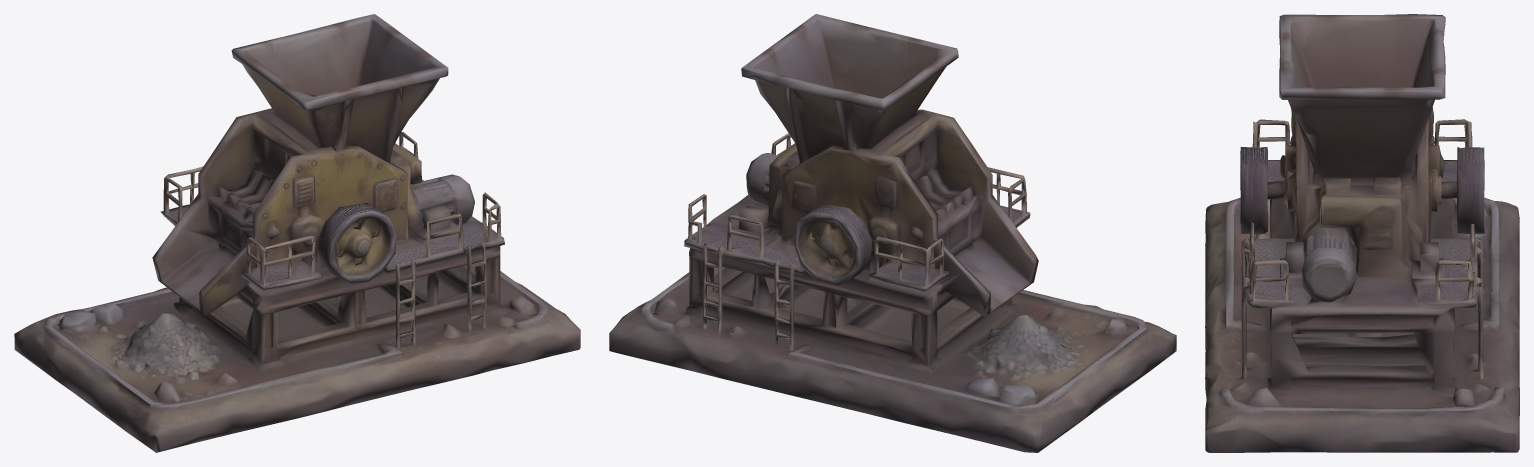
File: mining_site_crusher.glb
The picture shows the model from 3 angles, left to right: view 1: azimuth 30°, elevation 25°; view 2: azimuth 150°, elevation 25°; view 3: azimuth 270°, elevation 25°; orthographic projection. The views are drawn at different scales.
Parts seen in each view (by area): view 1: tripo_node_c7cfc817-c6e8-47a3-8ecf-fdba86572ff8; view 2: tripo_node_c7cfc817-c6e8-47a3-8ecf-fdba86572ff8; view 3: tripo_node_c7cfc817-c6e8-47a3-8ecf-fdba86572ff8.
Boxes of the visible parts, <box> form: tripo_node_c7cfc817-c6e8-47a3-8ecf-fdba86572ff8: <box>14,14,580,452</box>; tripo_node_c7cfc817-c6e8-47a3-8ecf-fdba86572ff8: <box>609,14,1176,452</box>; tripo_node_c7cfc817-c6e8-47a3-8ecf-fdba86572ff8: <box>1205,14,1519,452</box>.
Size of the model in its own units: 1 by 0.6281 by 0.5783.
Materials: 1 (1 with a texture image).
